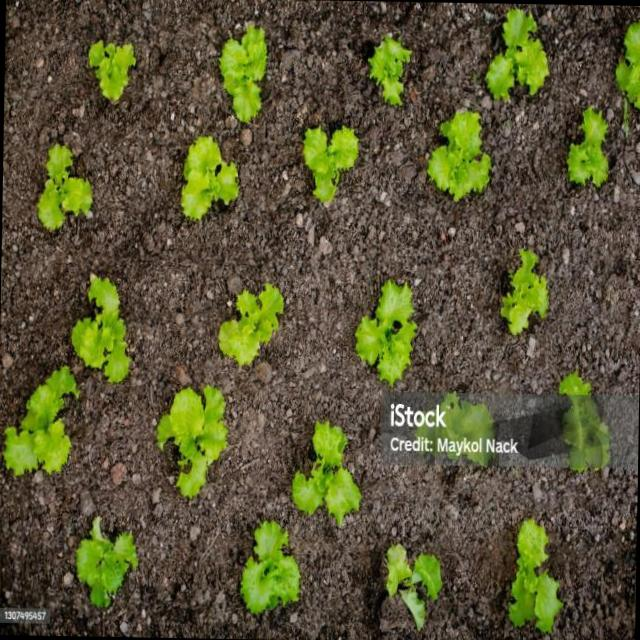Lettuce-Not-Ready-to-Harvest: (4, 367, 78, 475), (157, 386, 227, 497), (292, 421, 361, 522), (71, 275, 131, 382), (355, 280, 416, 384), (507, 520, 561, 632), (426, 110, 491, 200), (413, 392, 493, 465), (486, 8, 548, 98), (76, 517, 137, 607), (240, 520, 299, 613), (219, 283, 283, 365), (559, 373, 609, 471), (37, 143, 92, 230), (181, 136, 238, 219), (386, 544, 442, 627), (219, 25, 266, 121), (500, 249, 548, 334), (303, 127, 358, 201), (568, 107, 608, 185), (368, 35, 411, 104), (88, 41, 134, 101), (615, 22, 640, 109)
